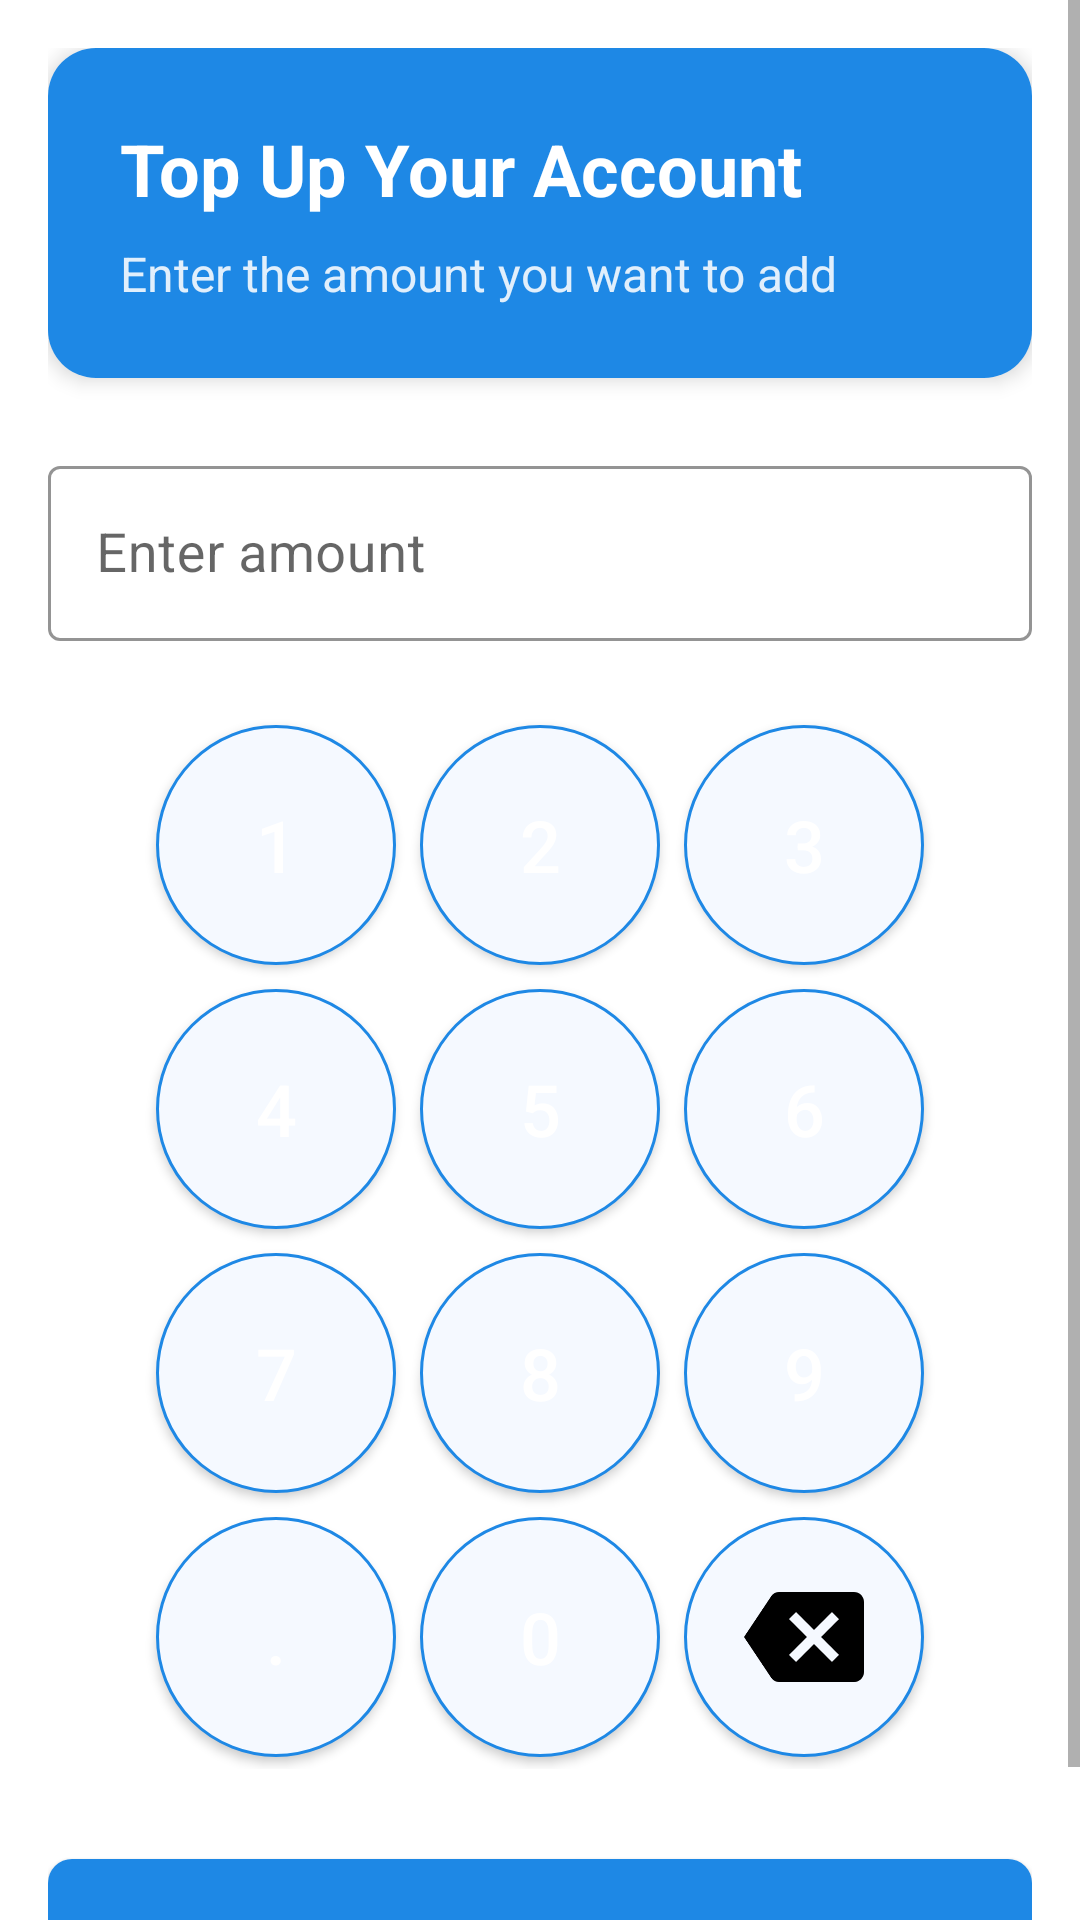

Locate icon controls on the screen. Image size 1080 × 1920, boxes as (x1, y1, x2, y2).
Delete: (684, 1517, 924, 1757)
